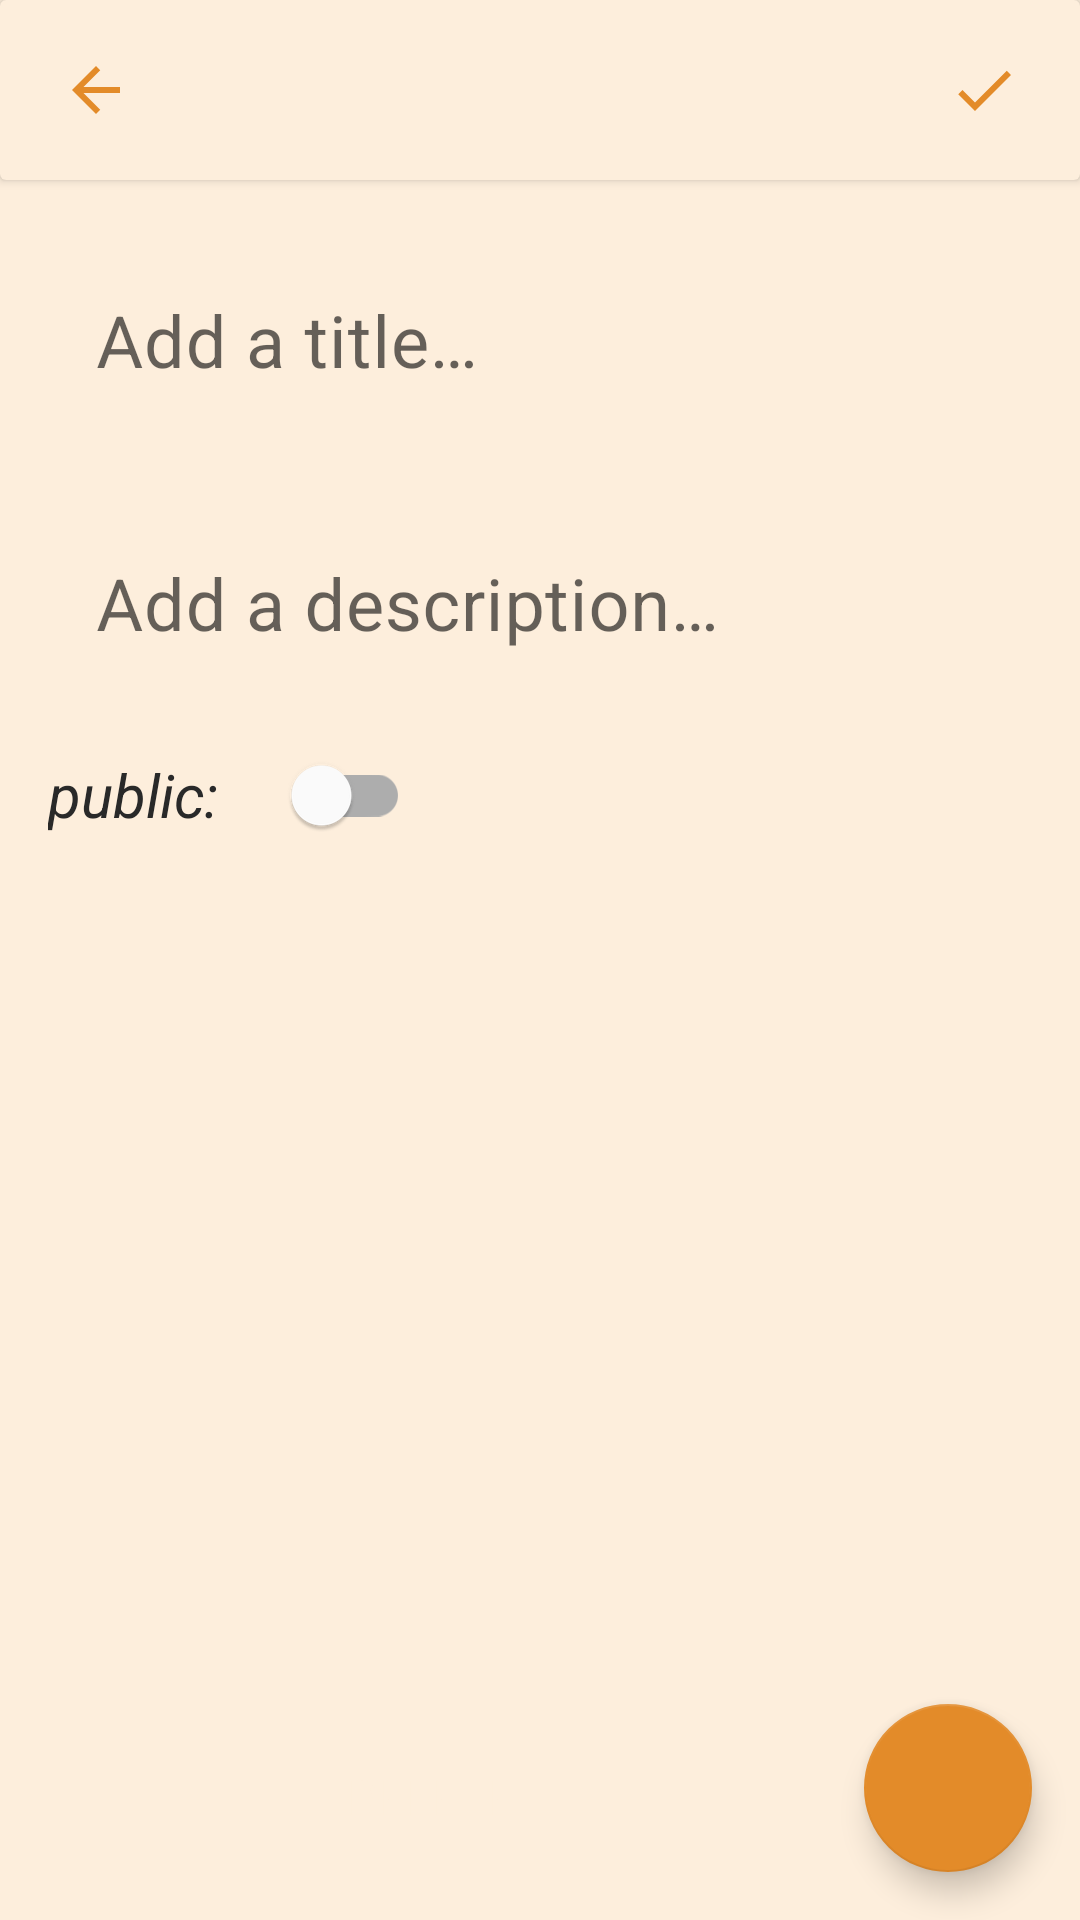

Screen size 1080*1920. Icon name, then its box in pixels as Rect(x1, y1, x2, y2):
arrow back: Rect(72, 66, 120, 114)
check: Rect(958, 71, 1011, 111)
